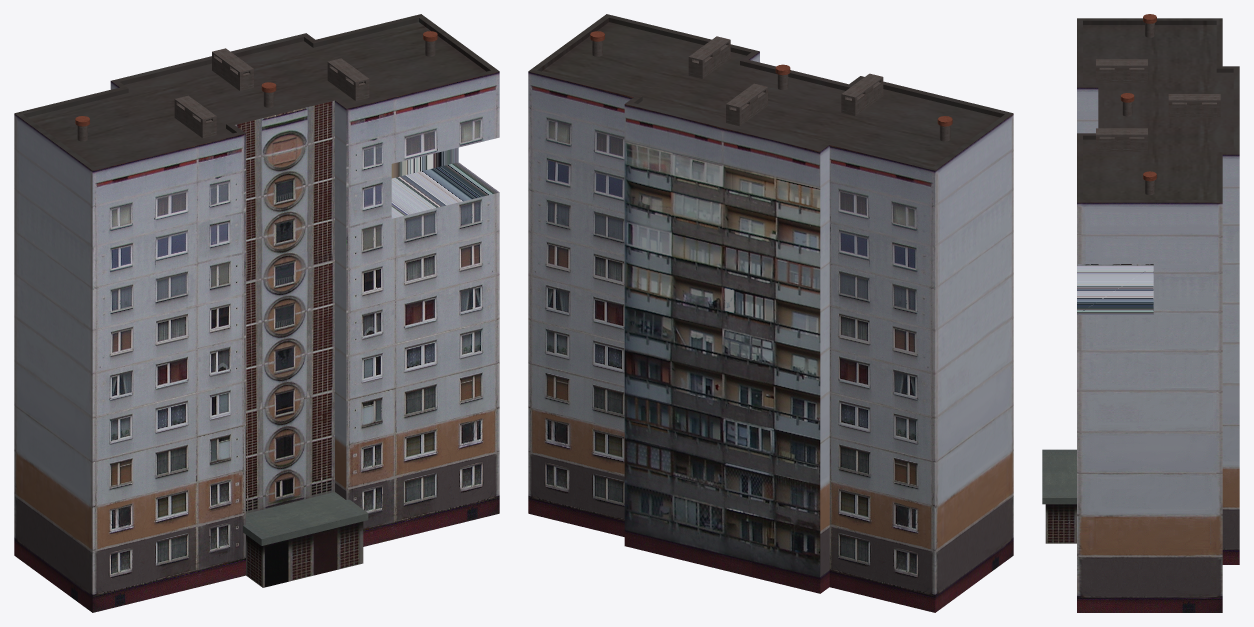
The model's file is spah9lvl_cut.fbx.
3 views of the same model, side by side, from view 1: azimuth 30°, elevation 25°; view 2: azimuth 150°, elevation 25°; view 3: azimuth 270°, elevation 25° (orthographic). The views are drawn at different scales.
Visible parts, largest first — view 1: spah9lvl.001; view 2: spah9lvl.001; view 3: spah9lvl.001.
Boxes of the visible parts, box(x1,y1,x2,y2) form: spah9lvl.001: box(14, 14, 499, 612); spah9lvl.001: box(528, 14, 1013, 612); spah9lvl.001: box(1042, 14, 1239, 612).
Bounding box in the file's own units: 29299 × 31497 × 13270.
1 material, 1 textured.
